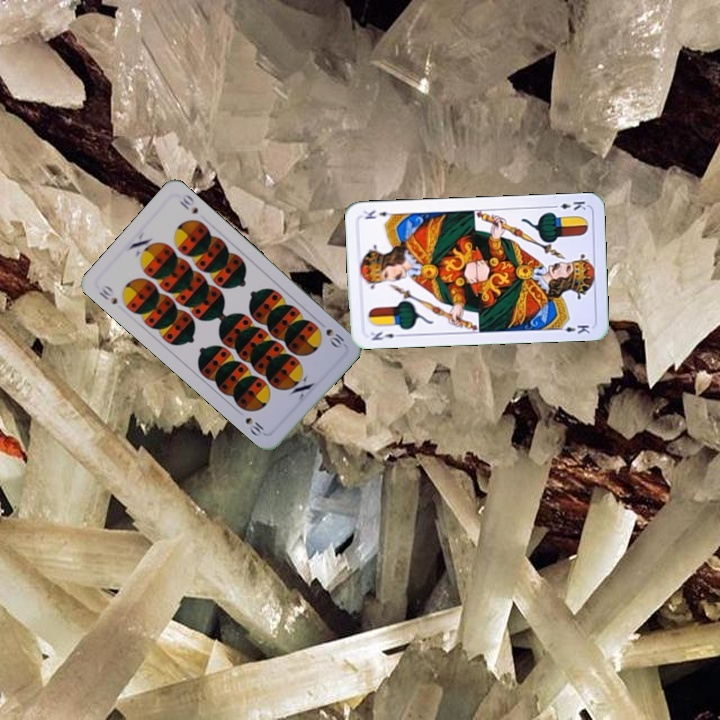EK: (366, 327, 404, 343), (548, 197, 588, 212)
S10: (315, 317, 347, 351), (95, 281, 120, 307)
